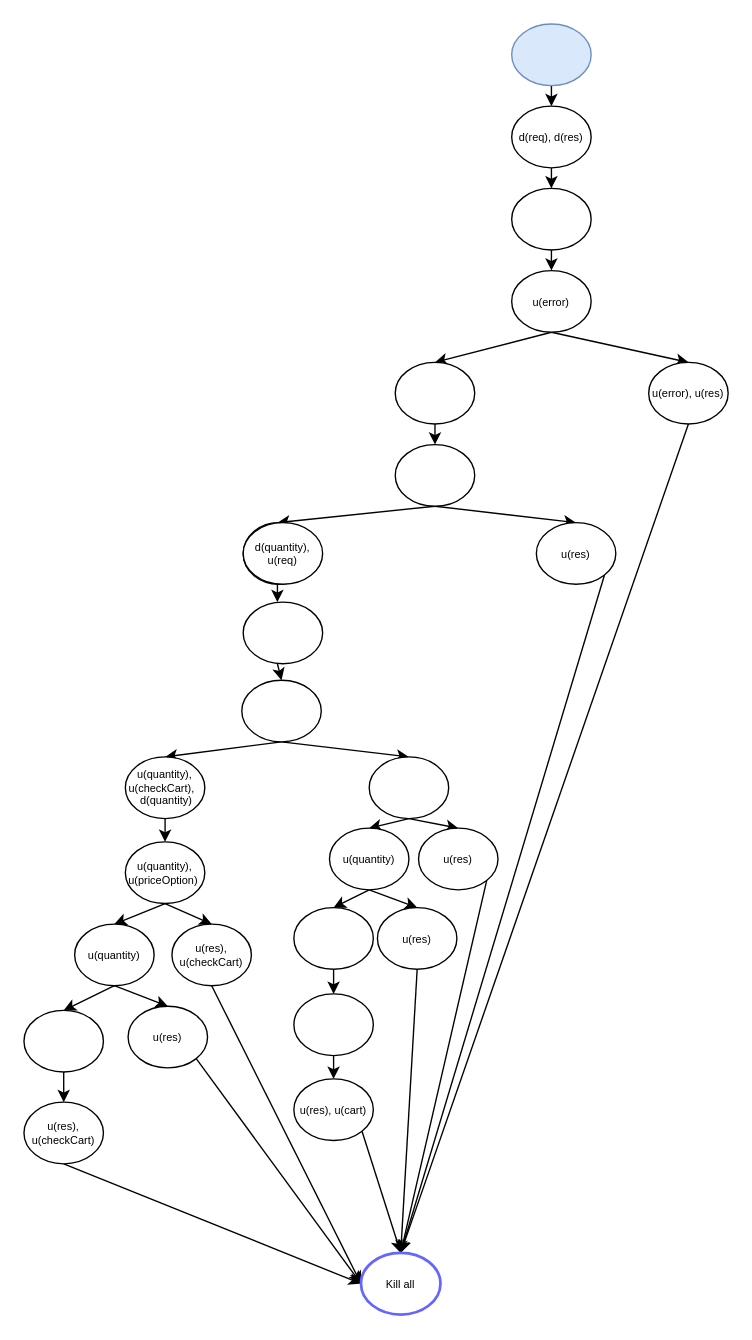
The diagram is 752 pixels wide and 1340 high, and some of its shapes have lost their labels. Here are the shapes that lost their labels. From the top down, the centre of each, then its label:
At pixel 550 218: "d(error), u(req)".
At pixel 434 392: "d(priceOption), u(req)".
At pixel 434 474: "u(priceOption)".
At pixel 282 632: "d(checkCart), u(req)".
At pixel 280 710: "u(checkCart)".
At pixel 408 787: "u(priceOption), u(quantity)".
At pixel 332 937: "d(cart)".
At pixel 63 1040: "u(quantity), u(checkCart),".
At pixel 332 1024: "u(cart)".
